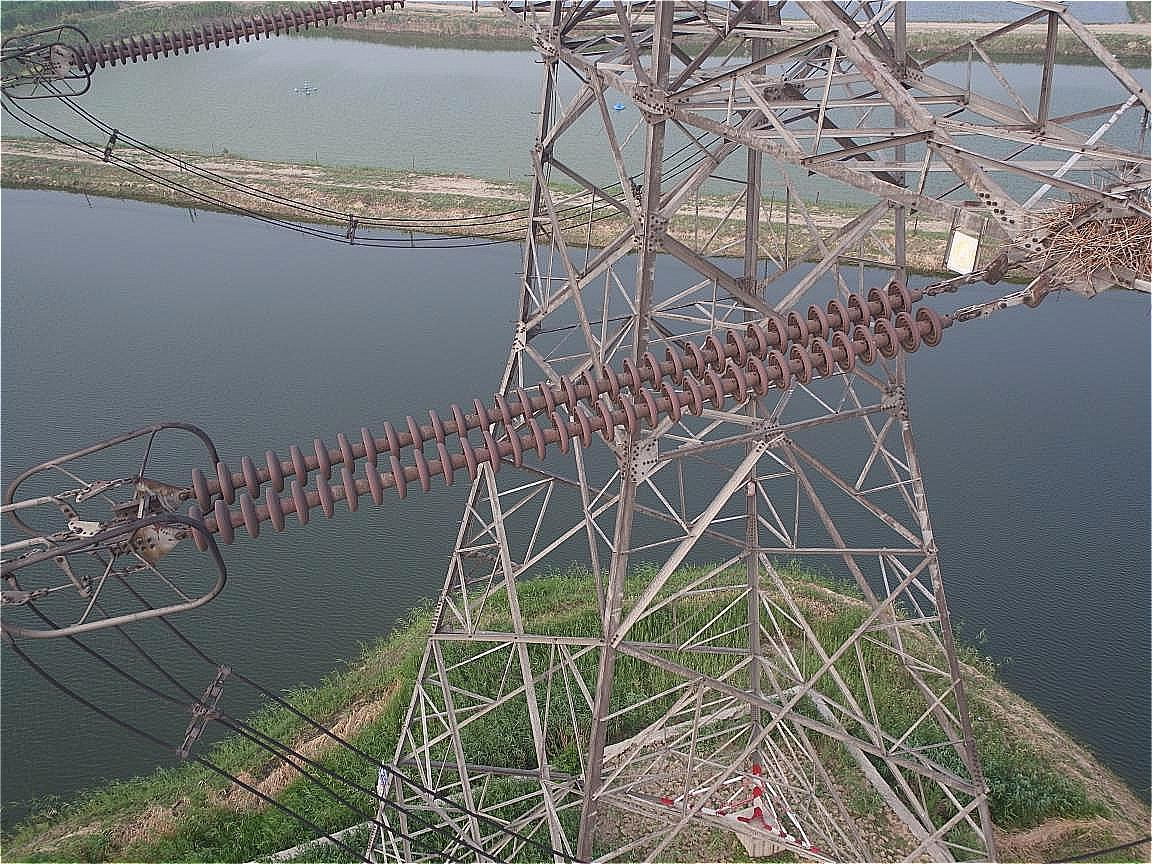insultor1: (134, 263, 961, 559)
